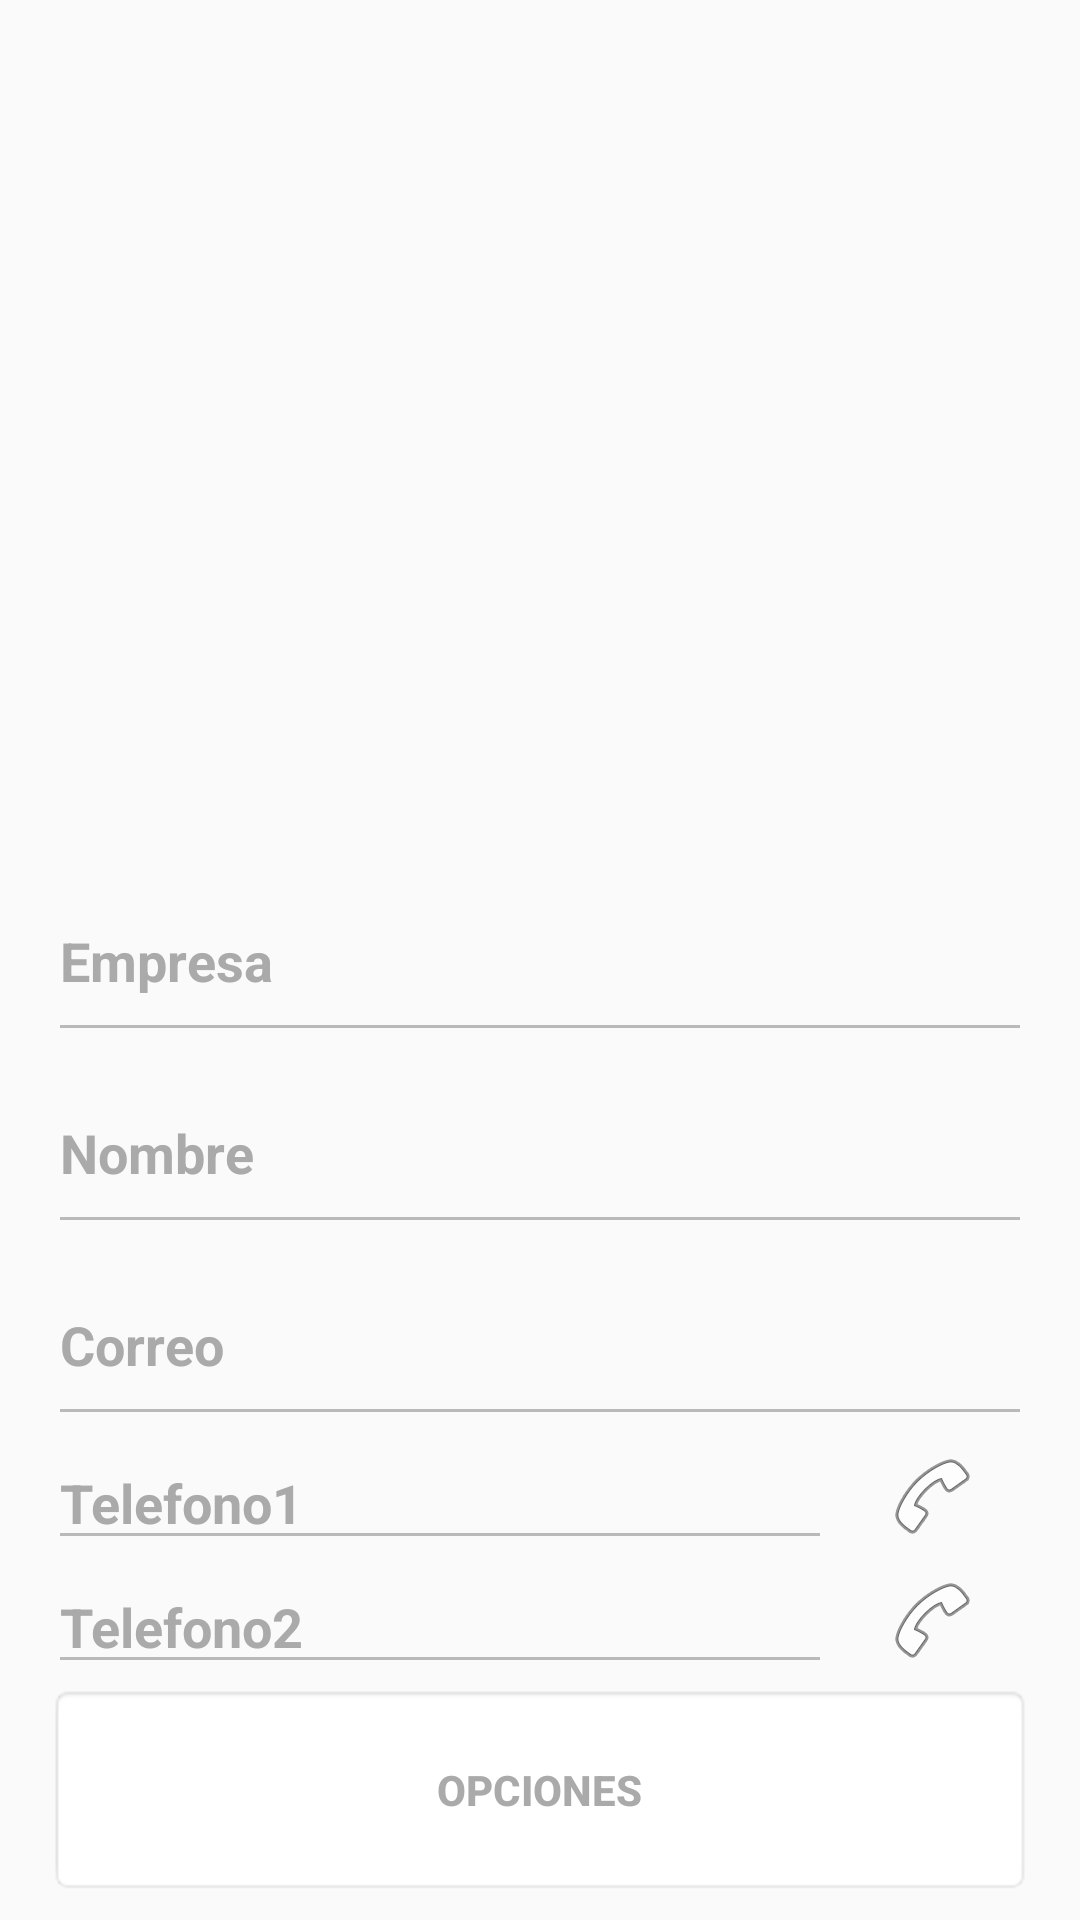

Icons on this 1080×1920 Android screen, each with its box as (x1, y1, x2, y2):
call: (895, 1459, 970, 1534), (895, 1583, 970, 1658)
